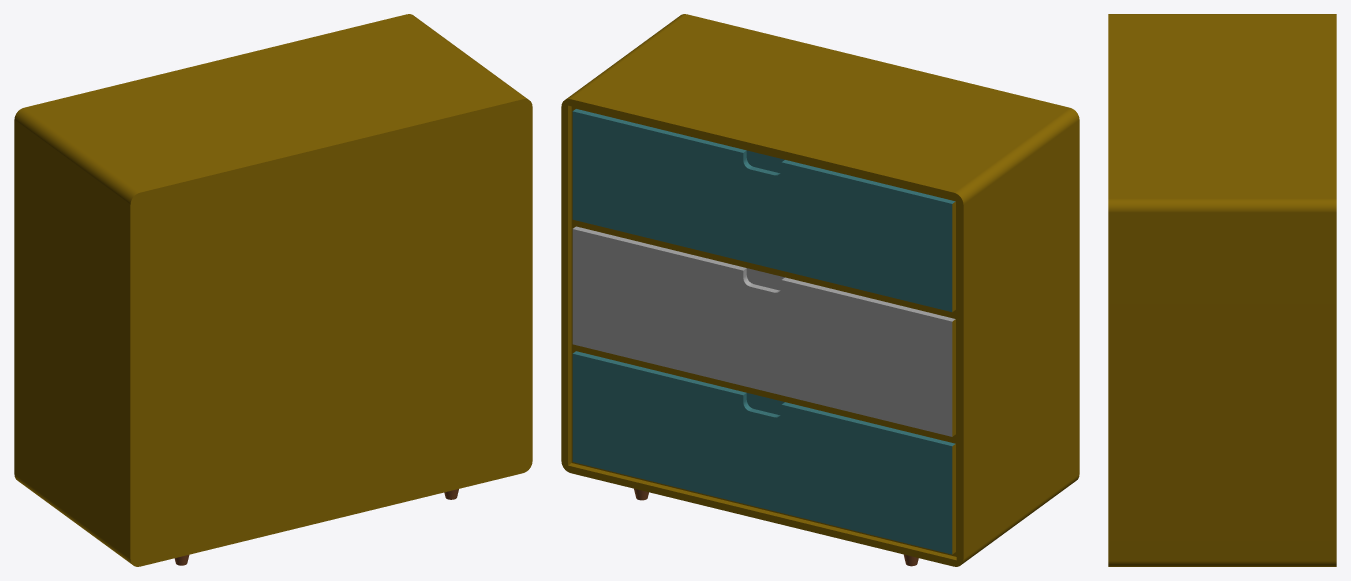
File: dresser.fbx
3 renders of one model, left to right at view 1: azimuth 30°, elevation 25°; view 2: azimuth 150°, elevation 25°; view 3: azimuth 270°, elevation 25°, orthographic.
Visible parts, largest first — view 1: dresser; view 2: dresser; view 3: dresser.
Part boxes in pixels (x1=…): dresser: x1=14, y1=14, x2=532, y2=566; dresser: x1=561, y1=14, x2=1079, y2=566; dresser: x1=1108, y1=14, x2=1336, y2=566.
Size of the model in its own units: 90 by 85 by 45.
